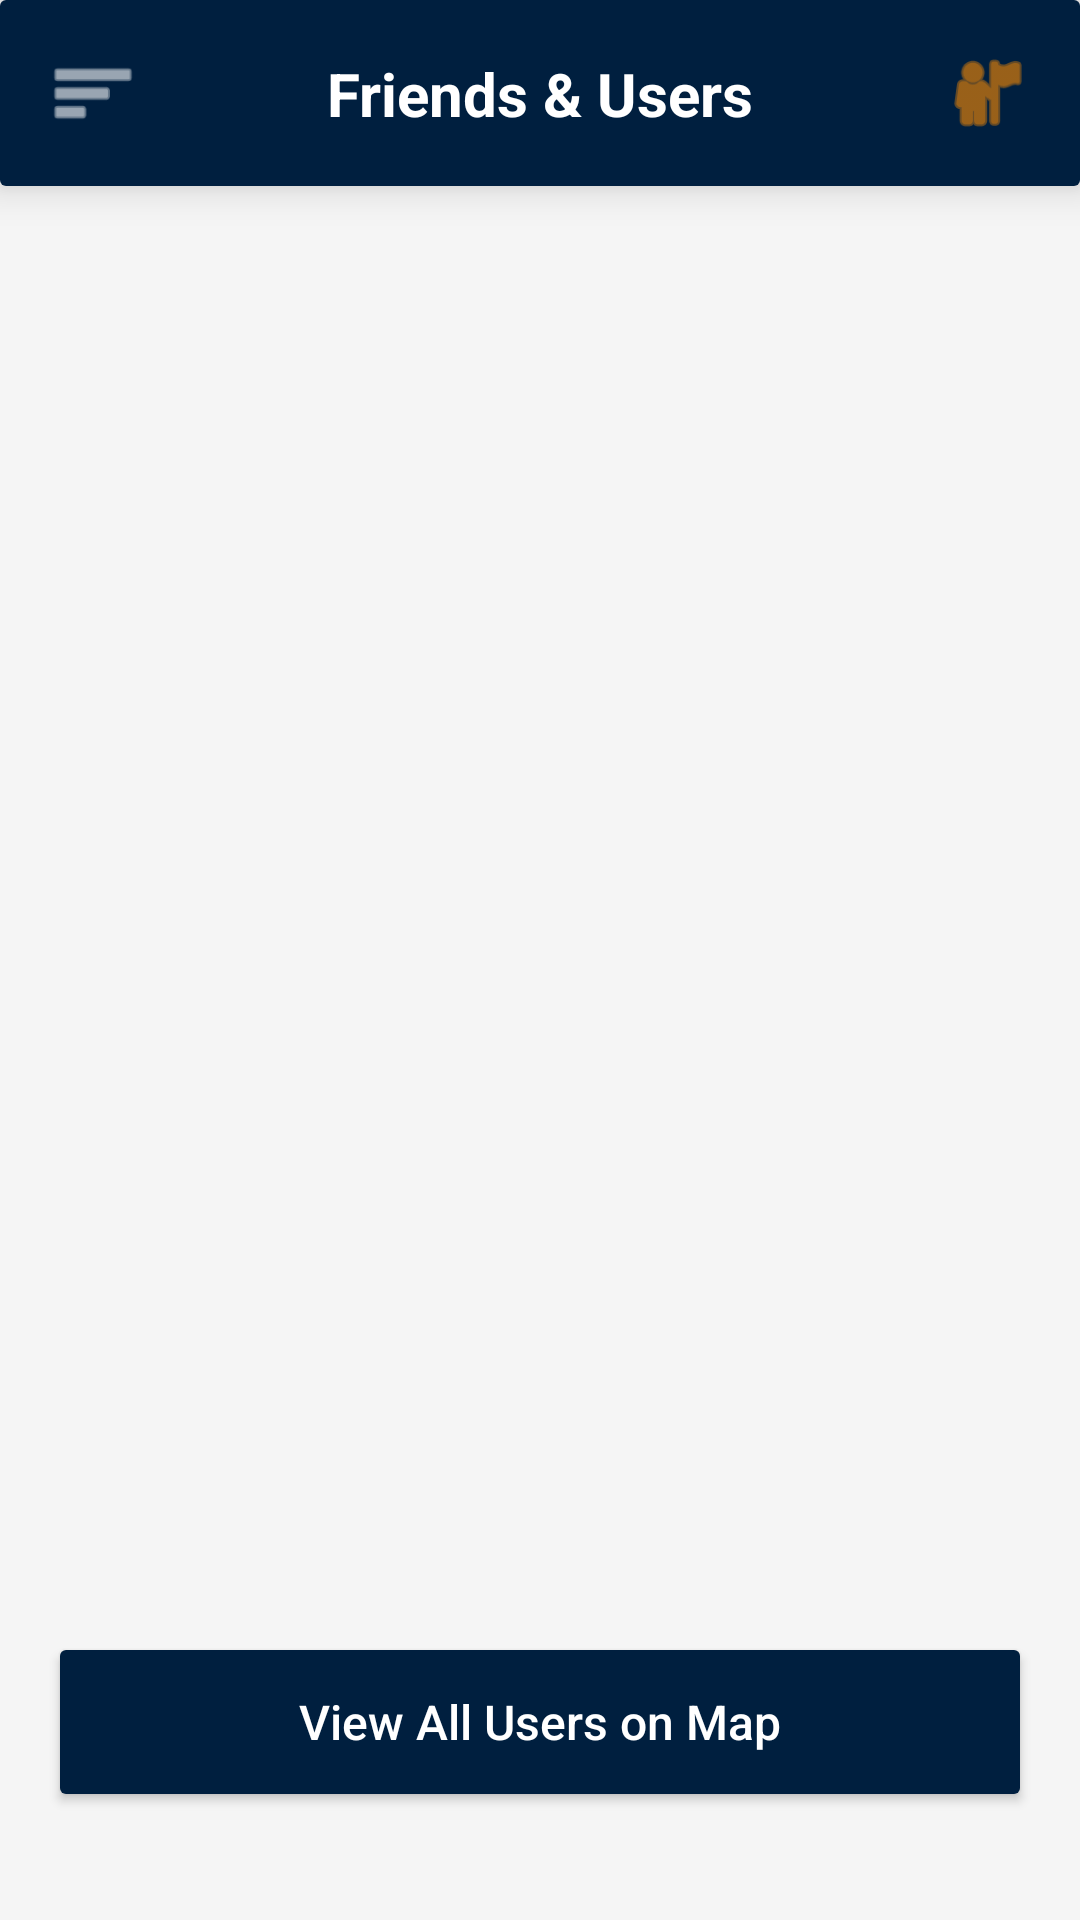

Named icons in this screenshot (1080*1920) and their bounding boxes, [x1,y1,x2,y2]:
myplaces: [954,59,1022,127]
sort by size: [54,68,132,119]
